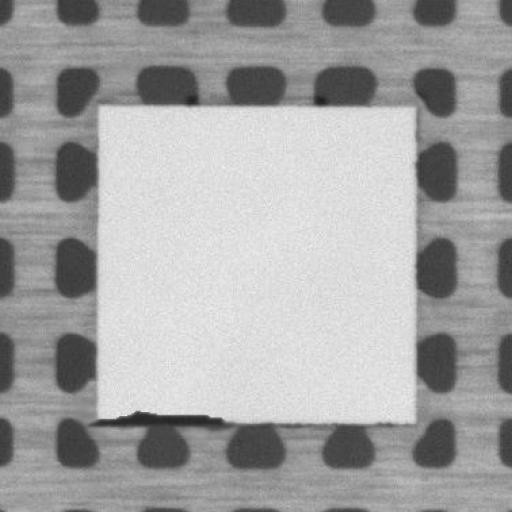DIE_BROKEN: (82, 404, 240, 427)
